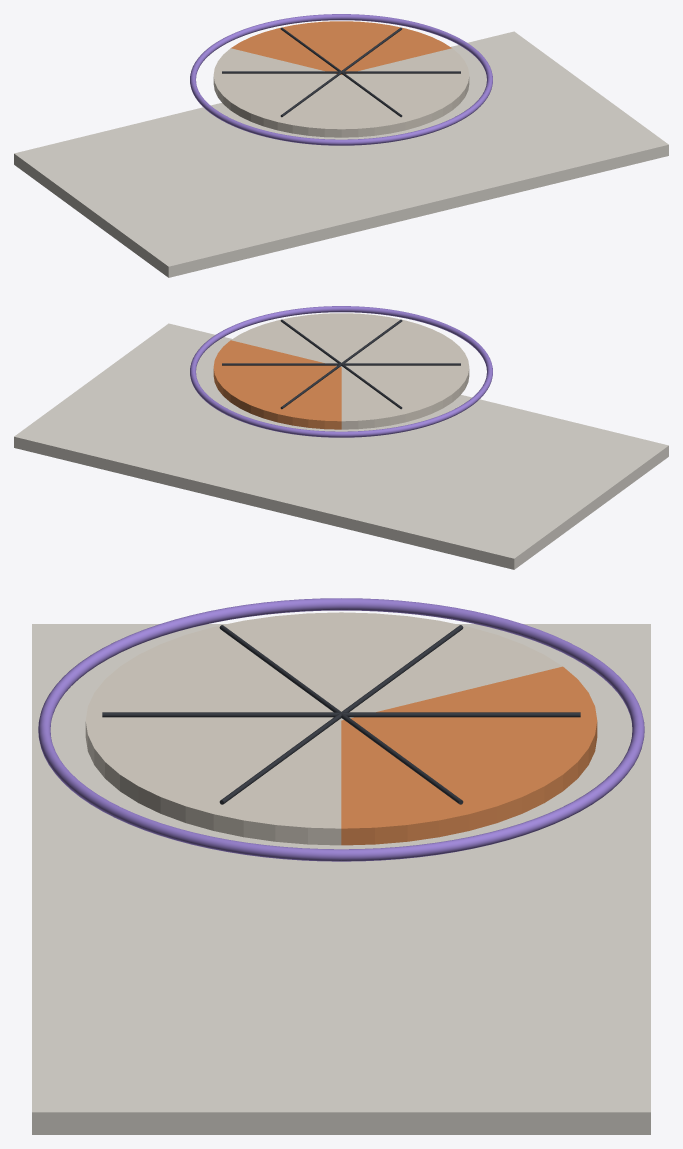
The model's file is math-fractions-denominator.glb.
3 views of the same model, one above another, from view 1: azimuth 30°, elevation 25°; view 2: azimuth 150°, elevation 25°; view 3: azimuth 270°, elevation 25° (orthographic). The views are drawn at different scales.
Visible parts, largest first — view 1: manipulative-base, all-equal-parts-ring, denominator-sixths-slice-4, denominator-sixths-slice-5, denominator-sixths-slice-3, denominator-sixths-slice-6, denominator-sixths-slice-2, denominator-sixths-slice-1; view 2: manipulative-base, all-equal-parts-ring, denominator-sixths-slice-2, denominator-sixths-slice-3, denominator-sixths-slice-1, denominator-sixths-slice-4, denominator-sixths-slice-5, denominator-sixths-slice-6; view 3: manipulative-base, all-equal-parts-ring, denominator-sixths-slice-1, denominator-sixths-slice-6, denominator-sixths-slice-2, denominator-sixths-slice-5, denominator-sixths-slice-3, denominator-sixths-slice-4, denominator-sixths-divider-2, denominator-sixths-divider-5, denominator-sixths-divider-1, denominator-sixths-divider-6 (+2 smaller).
Part boxes in pixels (box(x1,y1,x2,y2)): manipulative-base: box(14, 31, 668, 277); all-equal-parts-ring: box(190, 14, 492, 145); denominator-sixths-slice-4: box(230, 75, 341, 137); denominator-sixths-slice-5: box(341, 75, 452, 137); denominator-sixths-slice-3: box(213, 48, 340, 110); denominator-sixths-slice-6: box(342, 48, 469, 110); denominator-sixths-slice-2: box(231, 21, 341, 74); denominator-sixths-slice-1: box(341, 21, 451, 74); manipulative-base: box(14, 323, 668, 569); all-equal-parts-ring: box(190, 306, 492, 437); denominator-sixths-slice-2: box(230, 367, 341, 429); denominator-sixths-slice-3: box(341, 367, 452, 429); denominator-sixths-slice-1: box(213, 340, 340, 402); denominator-sixths-slice-4: box(342, 340, 469, 402); denominator-sixths-slice-5: box(341, 313, 451, 366); denominator-sixths-slice-6: box(231, 313, 341, 366); manipulative-base: box(32, 624, 650, 1134); all-equal-parts-ring: box(38, 598, 644, 861); denominator-sixths-slice-1: box(341, 720, 562, 845); denominator-sixths-slice-6: box(120, 720, 341, 845); denominator-sixths-slice-2: box(342, 666, 597, 790); denominator-sixths-slice-5: box(85, 666, 340, 790); denominator-sixths-slice-3: box(341, 612, 562, 720); denominator-sixths-slice-4: box(120, 612, 341, 720); denominator-sixths-divider-2: box(102, 712, 340, 717); denominator-sixths-divider-5: box(342, 712, 580, 717); denominator-sixths-divider-1: box(219, 712, 341, 804); denominator-sixths-divider-6: box(341, 713, 463, 804).
Size of what is drawn, in the model's own units: 2.8 by 0.476 by 1.5.
